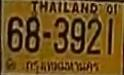1: (108, 19, 112, 54)
2: (87, 18, 101, 54)
3: (53, 17, 68, 53)
6: (7, 16, 22, 51)
8: (24, 15, 39, 52)
9: (70, 17, 84, 53)
BKK: (25, 58, 101, 74)
